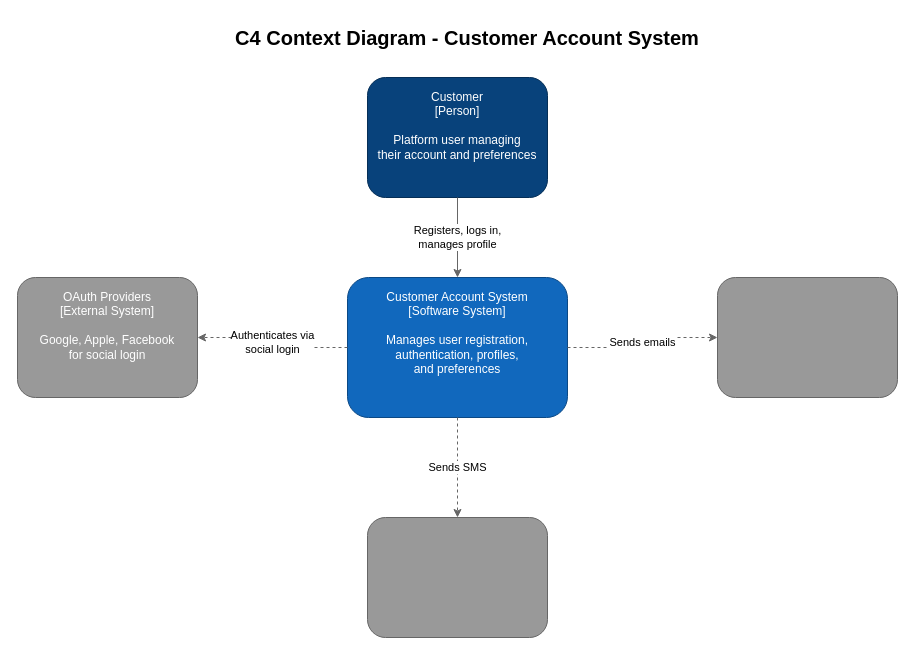
This 915x655 diagram has some shape labels left out. Here are the shapes that lost their labels. From the top down, the centre of each, then its label:
At point 807,337: "Email Service [External System] Sends verification and notification emails".
At point 457,577: "SMS Service [External System] Sends verification codes and notifications".
